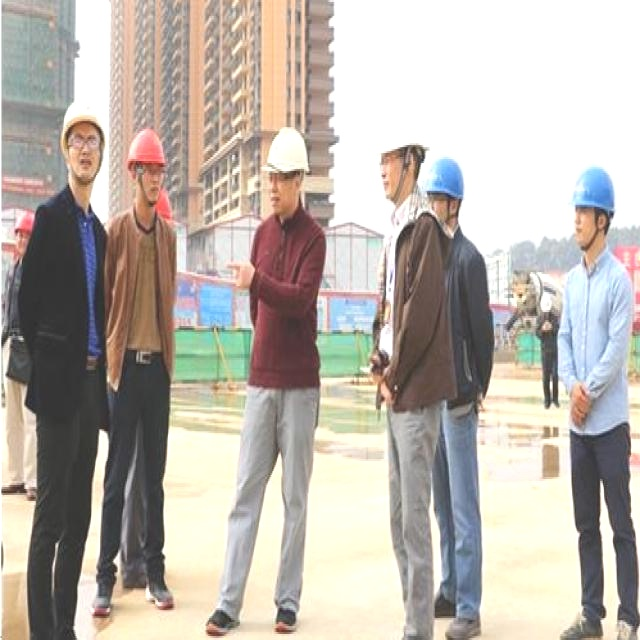Con_Casco: (59, 103, 106, 191), (571, 164, 613, 253)
Sin_Chaleco: (248, 216, 328, 387)
